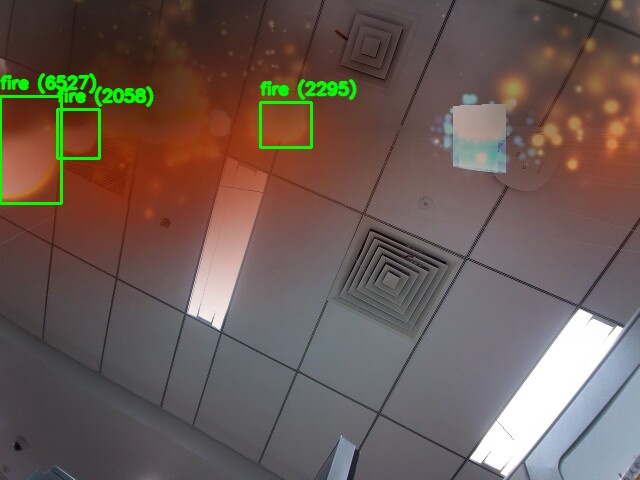fire: (0, 96, 61, 203), (260, 102, 311, 147), (57, 109, 99, 158)
